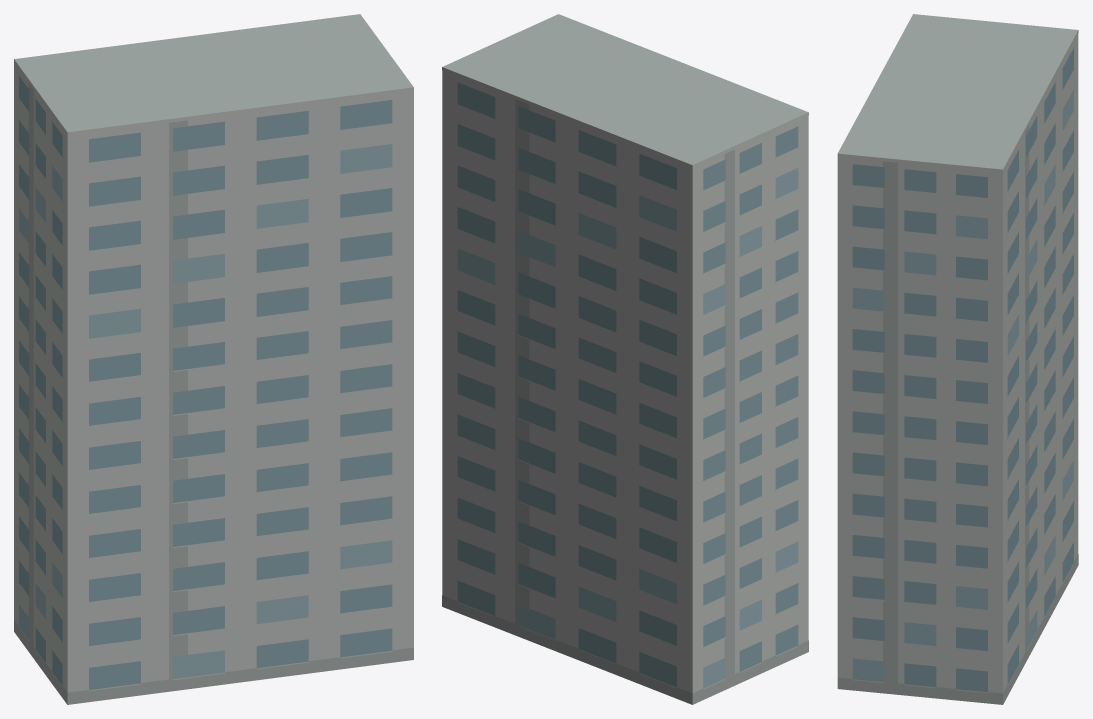
The model's file is residential-19853601-db5b-41e6-b189-27f6fd261dc6.glb.
3 renders of one model, left to right at view 1: azimuth 30°, elevation 25°; view 2: azimuth 150°, elevation 25°; view 3: azimuth 270°, elevation 25°, orthographic. The views are drawn at different scales.
Visible parts, largest first — view 1: residential-19853601-db5b-41e6-b189-27f6fd261dc6.tmp; view 2: residential-19853601-db5b-41e6-b189-27f6fd261dc6.tmp; view 3: residential-19853601-db5b-41e6-b189-27f6fd261dc6.tmp.
Part boxes in pixels (box(x1,y1,x2,y2)): residential-19853601-db5b-41e6-b189-27f6fd261dc6.tmp: box(14, 14, 413, 704); residential-19853601-db5b-41e6-b189-27f6fd261dc6.tmp: box(442, 14, 808, 704); residential-19853601-db5b-41e6-b189-27f6fd261dc6.tmp: box(837, 14, 1078, 704).
Bounding box in the file's own units: 23.68 × 38 × 15.51.
